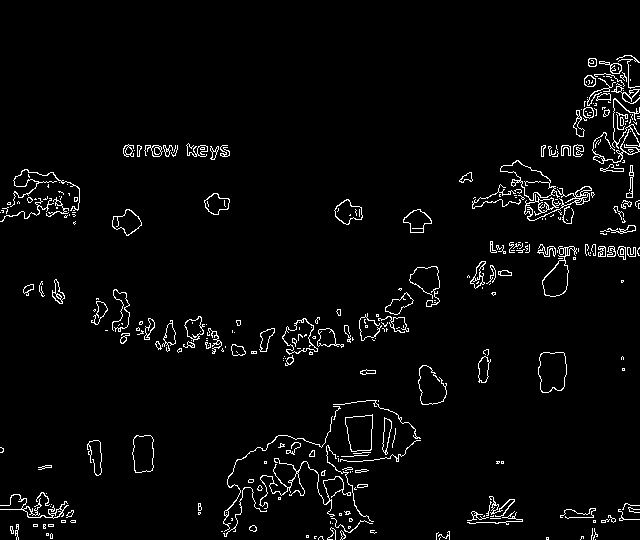left: (326, 194, 369, 232), (196, 186, 241, 222)
right: (104, 204, 150, 242)
up: (395, 200, 435, 240)
